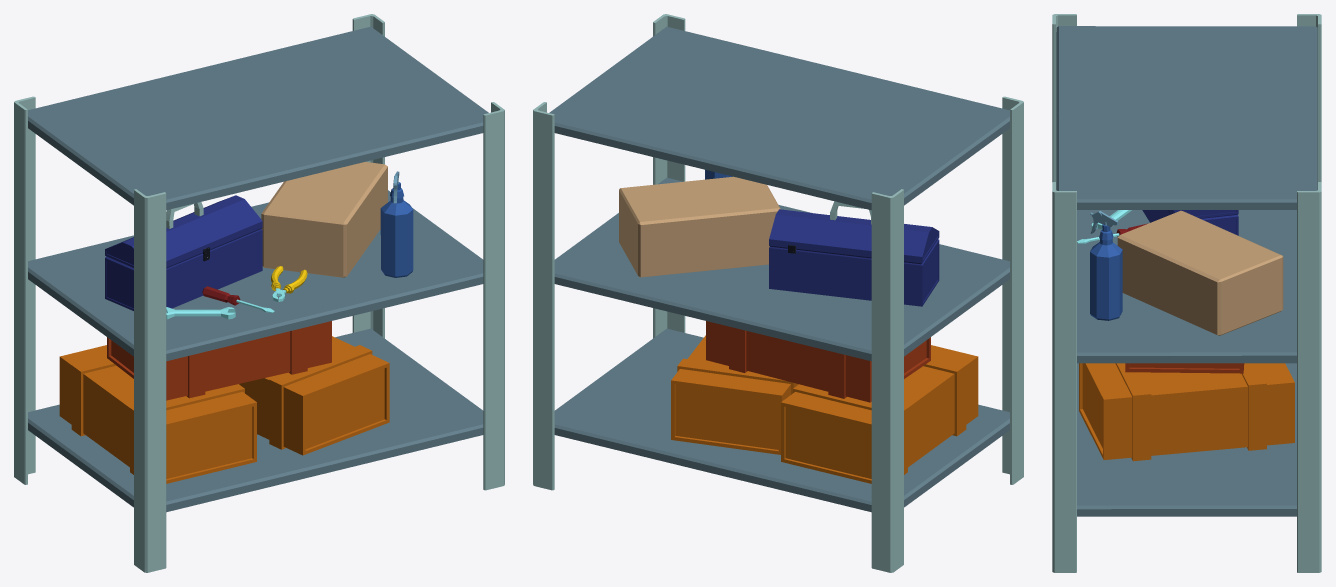
File: Prop_Rack_WO.fbx
3 renders of one model, left to right at view 1: azimuth 30°, elevation 25°; view 2: azimuth 150°, elevation 25°; view 3: azimuth 270°, elevation 25°, orthographic.
Visible parts, largest first — view 1: Prop_Rack_WO; view 2: Prop_Rack_WO; view 3: Prop_Rack_WO.
Boxes of the visible parts, <box> form: Prop_Rack_WO: <box>14,14,504,572</box>; Prop_Rack_WO: <box>533,14,1023,572</box>; Prop_Rack_WO: <box>1052,14,1321,572</box>.
Size of the model in its own units: 101 by 158 by 157.
